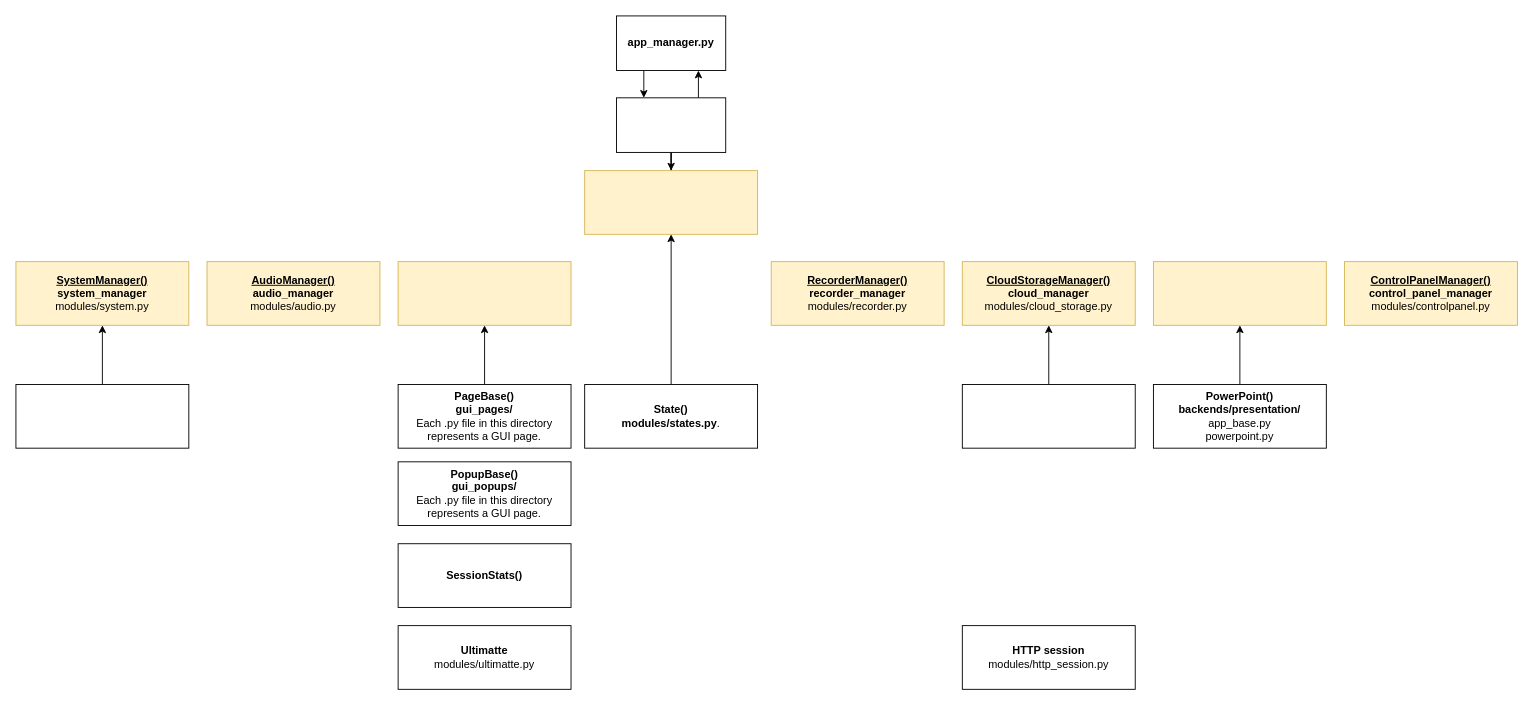
The diagram is 1533 pixels wide and 705 high, and some of its shapes have lost their labels. Here are the shapes that lost their labels. From the top down, the centre of each, then its label:
At (671,124): "app.py".
At (671,202): "StateManager() state_manager modules/state_manager.py".
At (484,293): "GuiManager() gui_manager modules /gui.py".
At (1239,293): "PresentationManager() presentation_manager modules /presentation.py".
At (102,416): "Encryption modules /encryption.py".
At (1048,416): "OneDrive() backends/cloud_storage/ storage_base.py onedrive.py".
